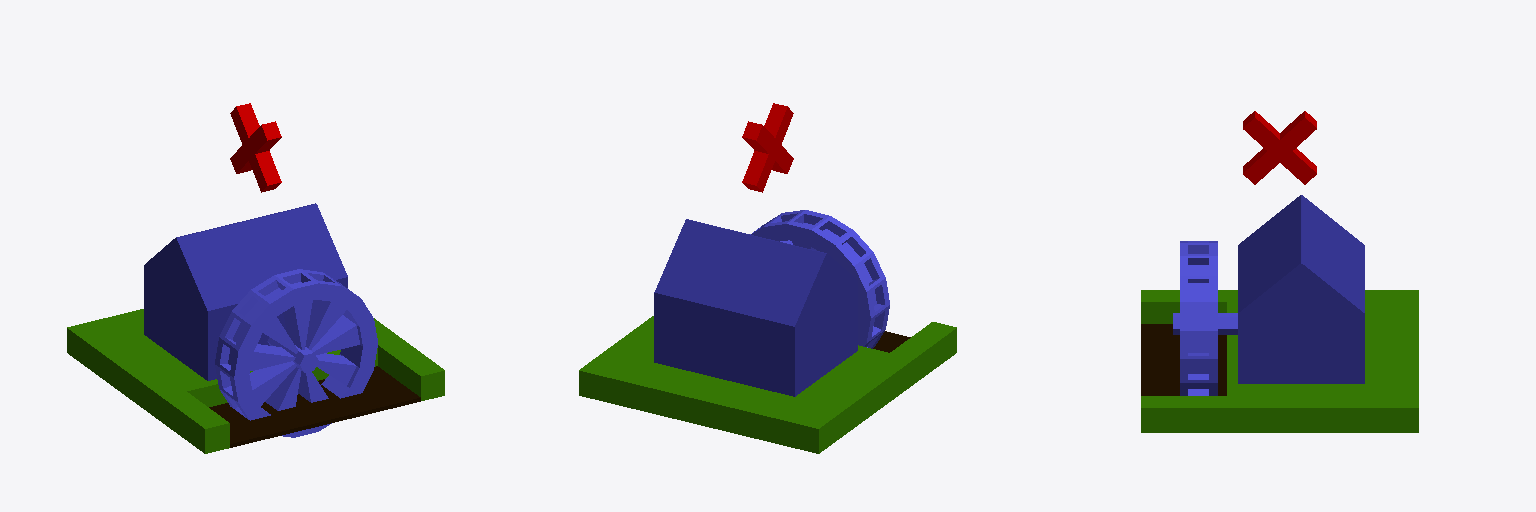
The model's file is Grinder999.obj.
3 renders of one model, left to right at view 1: azimuth 30°, elevation 25°; view 2: azimuth 150°, elevation 25°; view 3: azimuth 270°, elevation 25°, orthographic.
Parts seen in each view (by area): view 1: Box924, Mill004, Tilebase136, Object001, Box925, Box926, Cylinder141; view 2: Box924, Tilebase136, Mill004, Box926, Box925; view 3: Box924, Tilebase136, Mill004, Object001, Box926, Box925, Cylinder141.
Part boxes in pixels (x1,y1,x2,y2): Box924: (144,203,347,380); Mill004: (215,269,377,437); Tilebase136: (67,309,444,453); Object001: (209,366,420,447); Box925: (230,103,281,192); Box926: (230,121,281,173); Cylinder141: (267,337,318,372); Box924: (654,219,857,396); Tilebase136: (579,316,956,453); Mill004: (750,210,889,348); Box926: (742,103,793,192); Box925: (742,121,793,173); Box924: (1238,195,1364,383); Tilebase136: (1141,290,1418,432); Mill004: (1180,241,1217,395); Object001: (1141,324,1226,395); Box926: (1243,111,1316,184); Box925: (1243,111,1316,184); Cylinder141: (1173,313,1237,334).
Bounding box in the file's own units: 10 × 11.3 × 10.